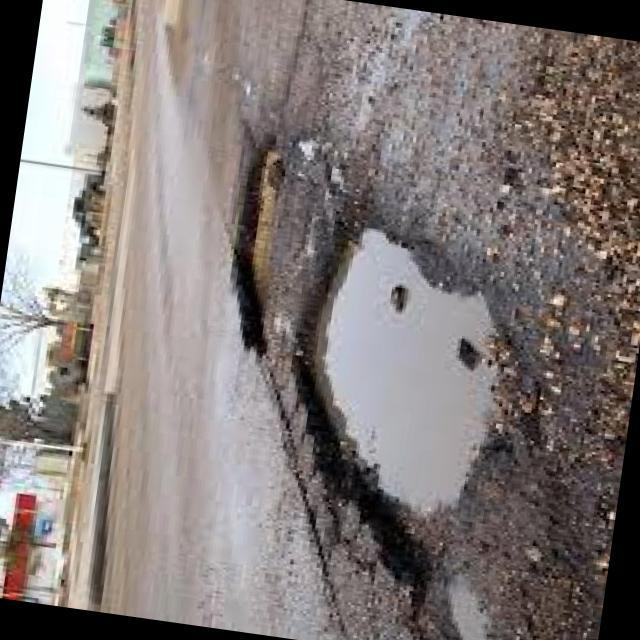pothole: (252, 196, 540, 600), (196, 135, 300, 371)
